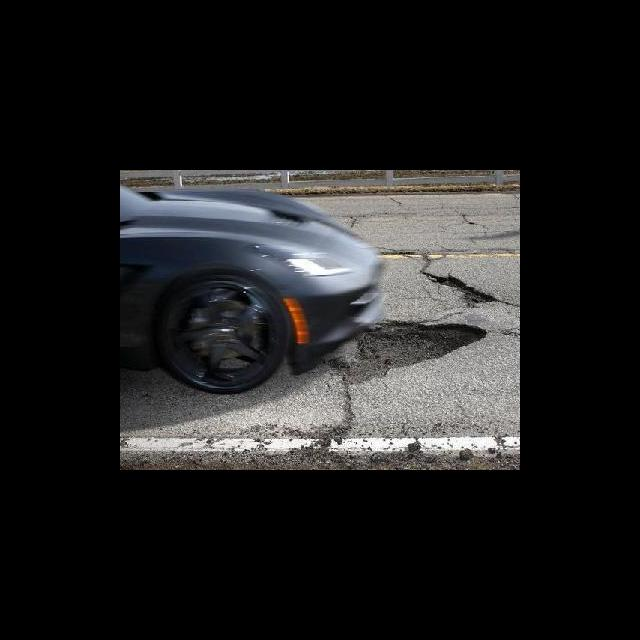lubang_kecil: (369, 316, 487, 374), (427, 269, 498, 310)
